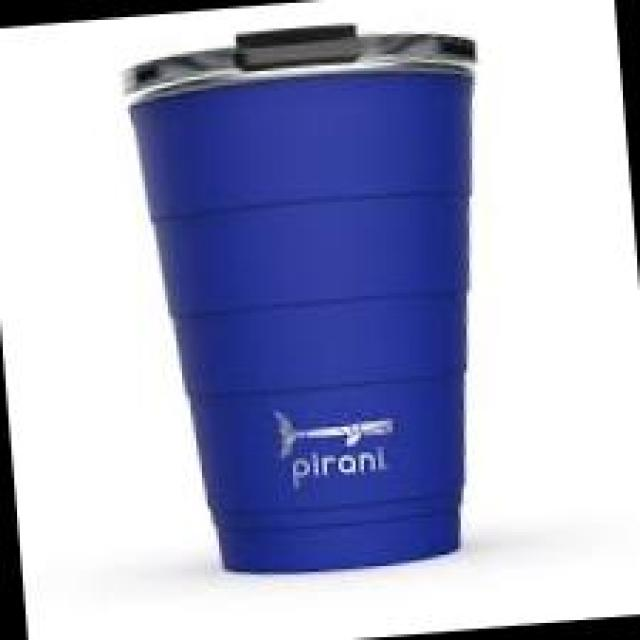bottle: (107, 10, 536, 604)
